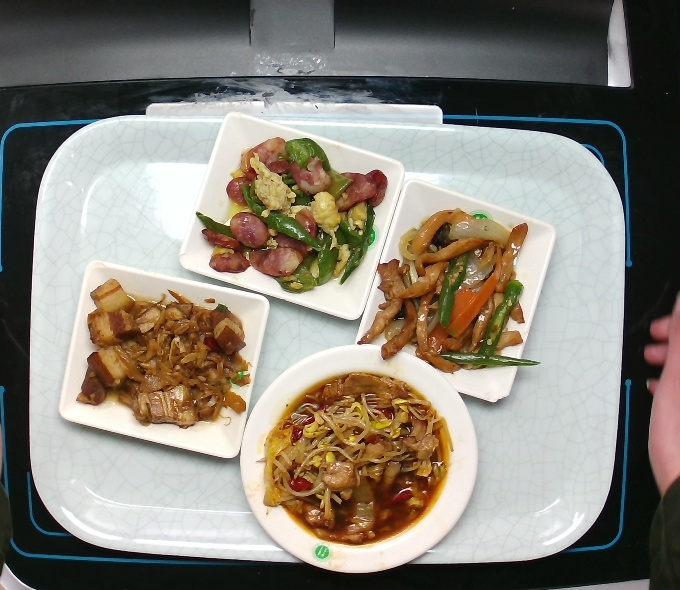wcq-HongShaoRou: (66, 276, 257, 433)
wcq-QingJiaoJiDanChaoDaChang: (190, 134, 393, 297)
wcq-QingJiaoRouSi: (351, 202, 547, 377)
wcq-ShuiZhuRouPian: (251, 361, 463, 555)
